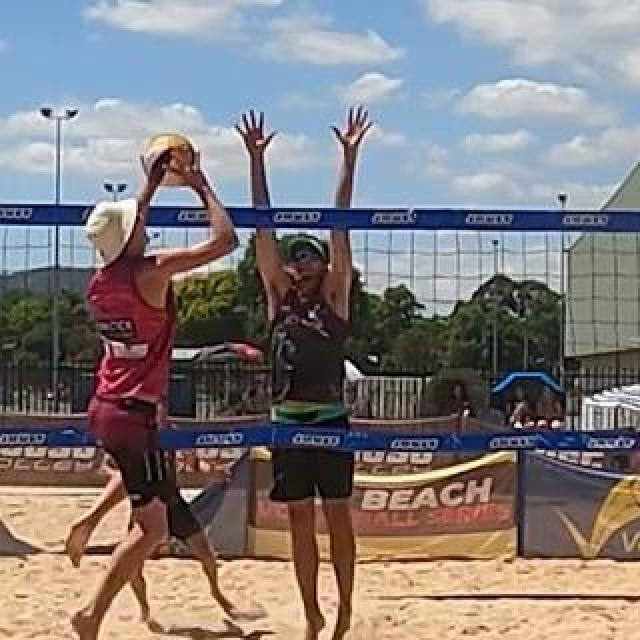volleyball: (141, 132, 197, 188)
